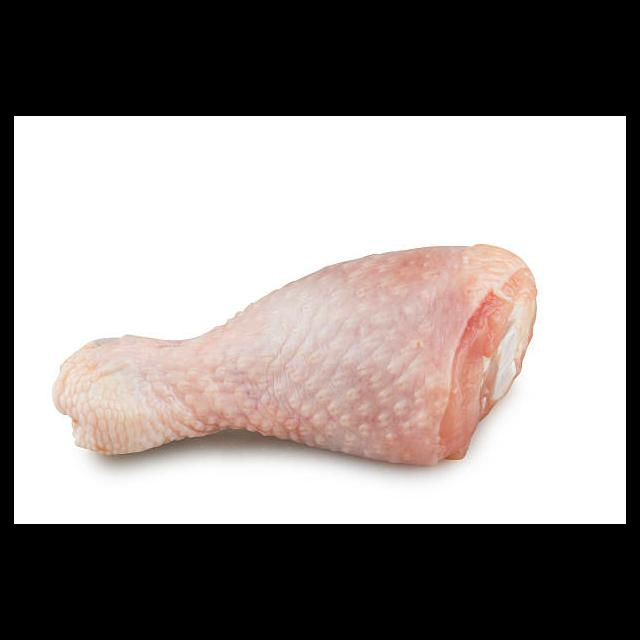chicken: (54, 245, 538, 467)
